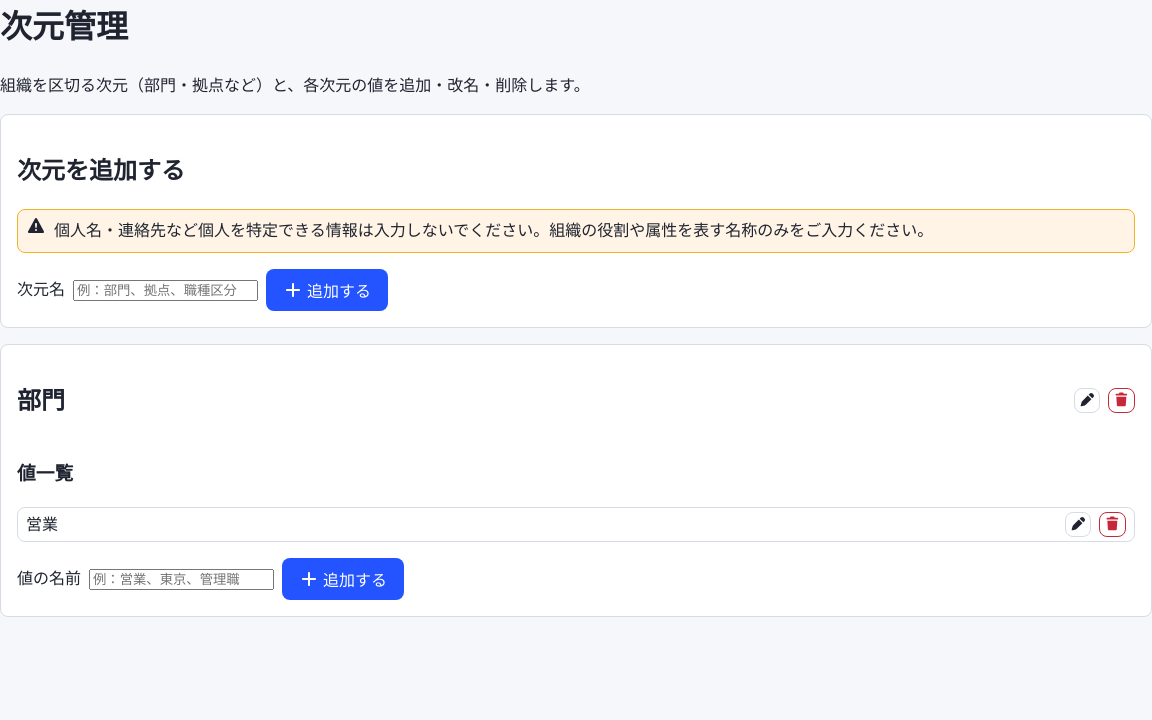
DimensionsPage › 値の削除が参照ありで拒否された場合はエラートーストを表示する
The image size is (1152, 720).
Expected: the heading "部門" is shown, [17,381,65,419]
Click the button named "営業を削除する" at point(1113, 524), box [1099,512,1126,537]
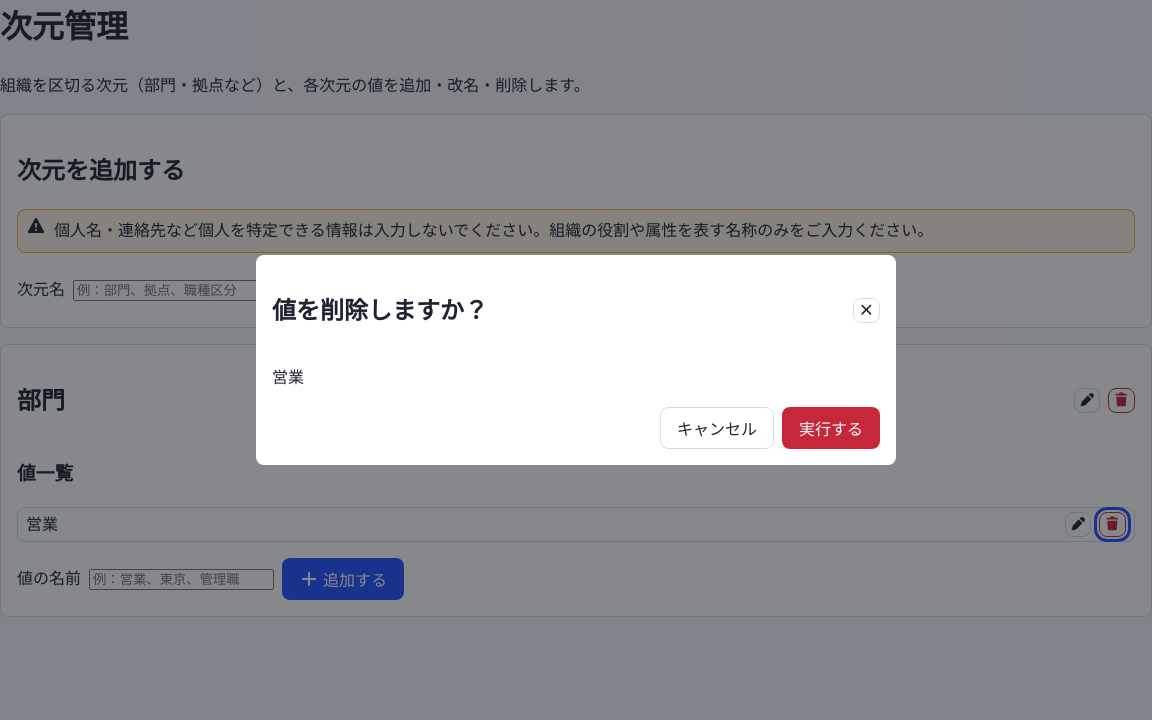
Click the button "実行する" at point(831, 428), box [782,407,880,449]
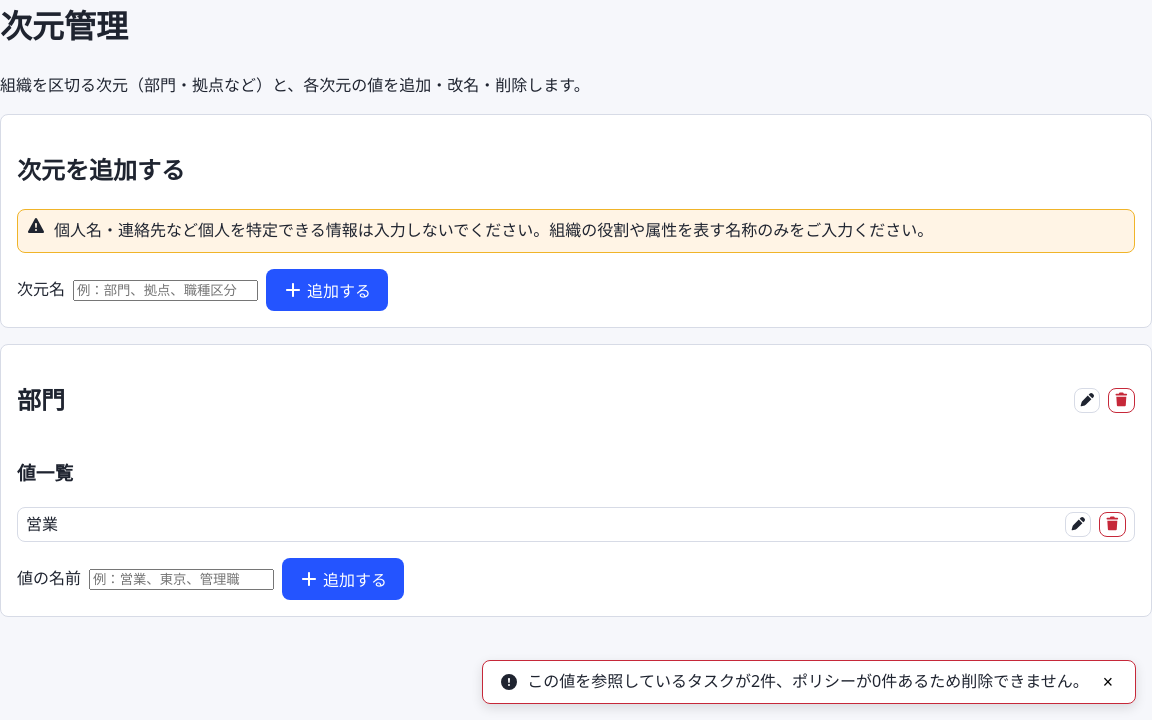
Now the text "この値を参照しているタスクが2件、ポリシーが0件あるため削除できません。" is shown, box [527,669,1089,695]
